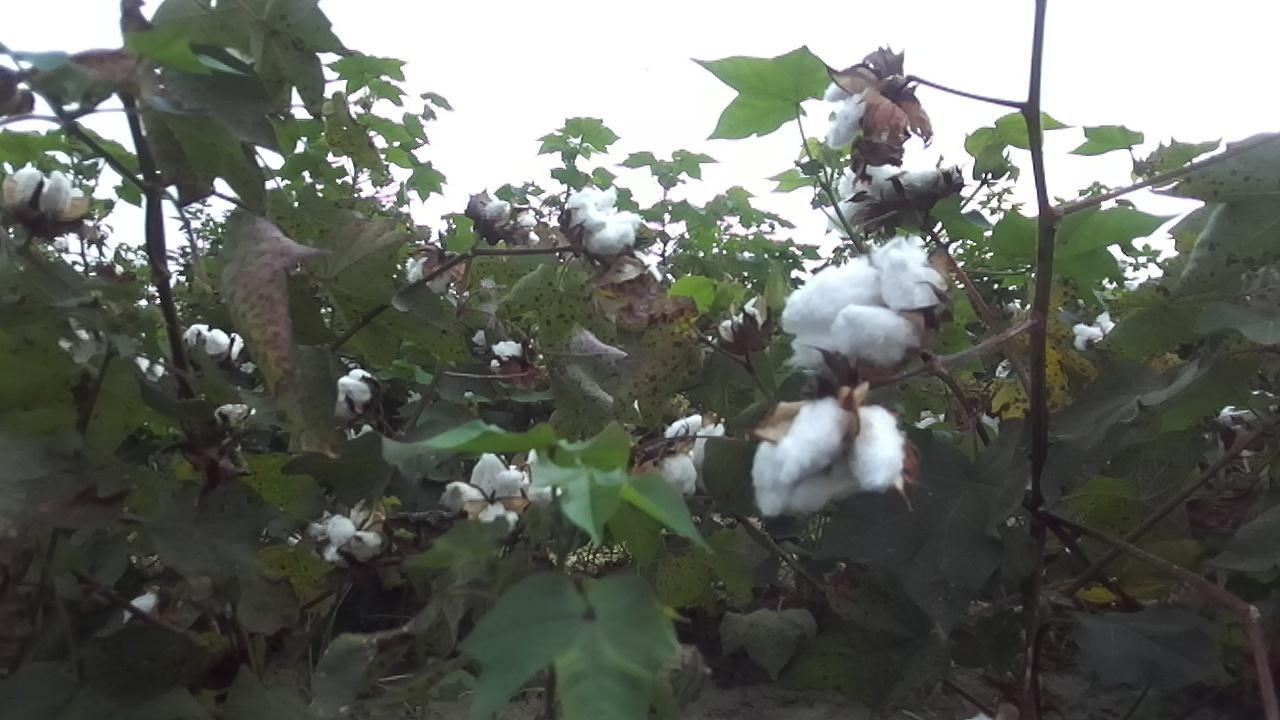cotton_ready: (781, 234, 944, 371), (753, 399, 904, 519), (833, 167, 960, 231), (448, 454, 525, 531), (825, 74, 892, 159), (568, 187, 639, 257), (308, 515, 382, 565), (11, 167, 72, 225), (661, 412, 700, 493), (183, 323, 245, 362), (336, 367, 372, 426), (721, 299, 765, 346), (485, 201, 539, 239), (493, 340, 535, 373)
